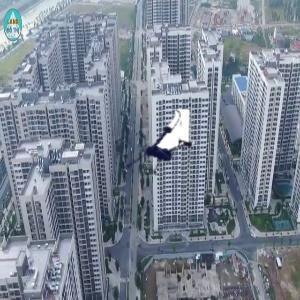drone: (114, 110, 198, 194)
